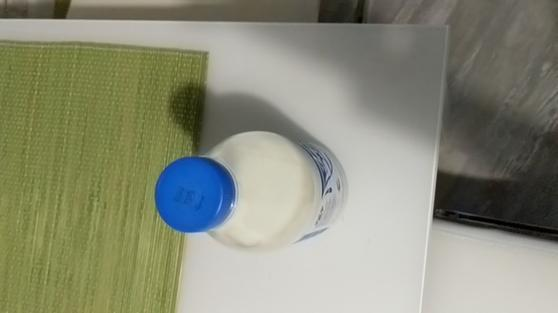milk: (149, 122, 360, 264)
